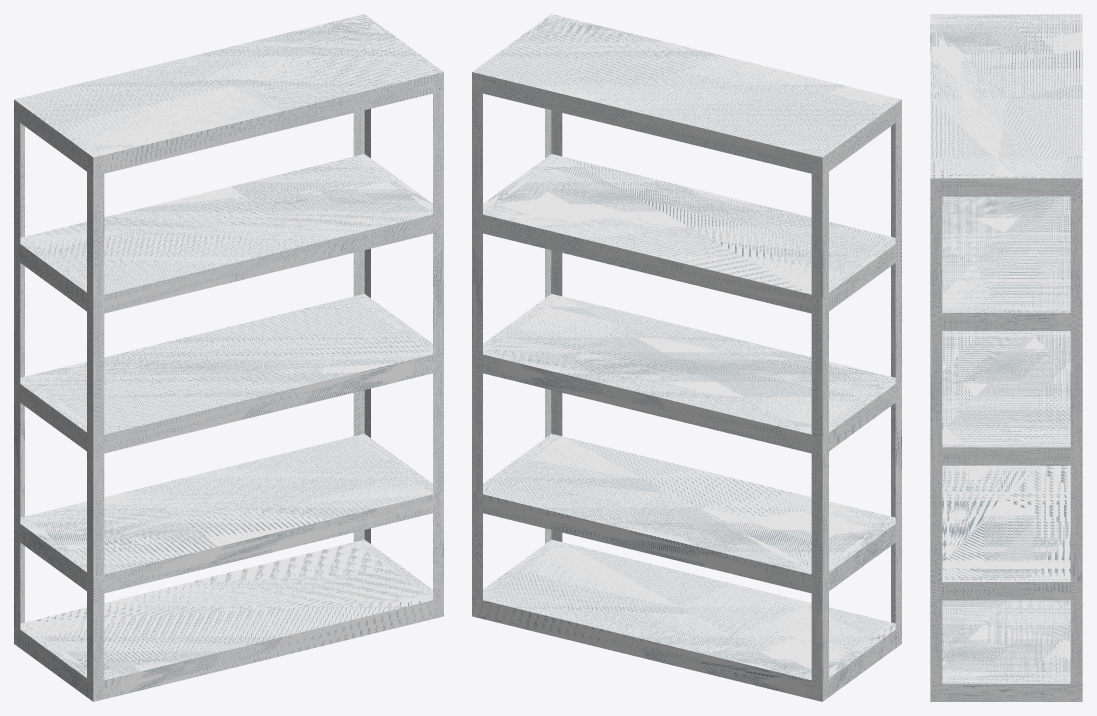
3 views of the same model, side by side, from view 1: azimuth 30°, elevation 25°; view 2: azimuth 150°, elevation 25°; view 3: azimuth 270°, elevation 25° (orthographic). The views are drawn at different scales.
Visible parts, largest first — view 1: SketchUp; view 2: SketchUp; view 3: SketchUp.
Boxes of the visible parts, x1,y1,x2,y2 form: SketchUp: [14, 14, 443, 701]; SketchUp: [472, 14, 901, 701]; SketchUp: [930, 14, 1082, 701].
Bounding box in the file's own units: 48.5 × 19 × 72.
